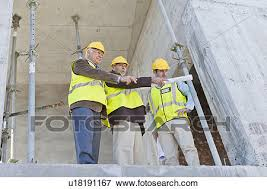helmet: (89, 41, 105, 52), (153, 59, 168, 70), (110, 56, 128, 64)
vest: (68, 61, 104, 109), (107, 75, 146, 112), (153, 85, 185, 118)
